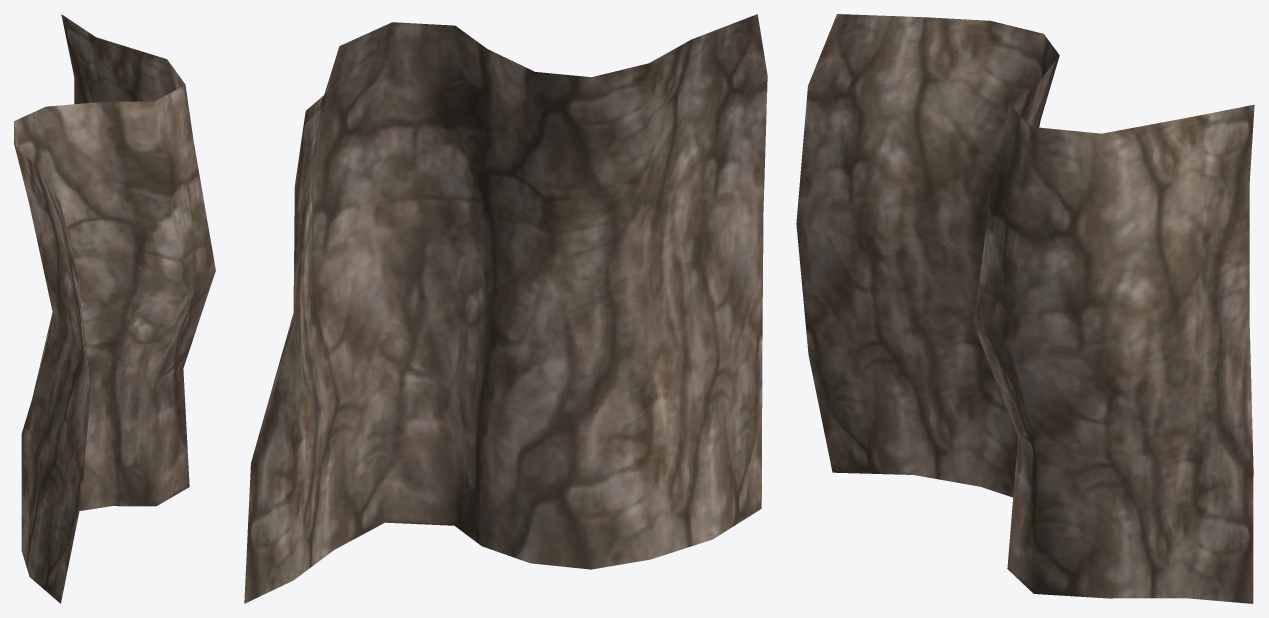
Rendered from EKH_CAVERNS_PS_CA_OBJECT37.fbx.
3 views of the same model, side by side, from view 1: azimuth 30°, elevation 25°; view 2: azimuth 150°, elevation 25°; view 3: azimuth 270°, elevation 25° (orthographic). The views are drawn at different scales.
Parts seen in each view (by area): view 1: EKH_CAVERNS_PS_CA_OBJECT37; view 2: EKH_CAVERNS_PS_CA_OBJECT37; view 3: EKH_CAVERNS_PS_CA_OBJECT37.
Boxes of the visible parts, x1,y1,x2,y2 form: EKH_CAVERNS_PS_CA_OBJECT37: (14,14,215,603); EKH_CAVERNS_PS_CA_OBJECT37: (244,14,767,603); EKH_CAVERNS_PS_CA_OBJECT37: (796,14,1254,603).
Bounding box in the file's own units: 56249 × 89131 × 78536.
1 material, 1 textured.
